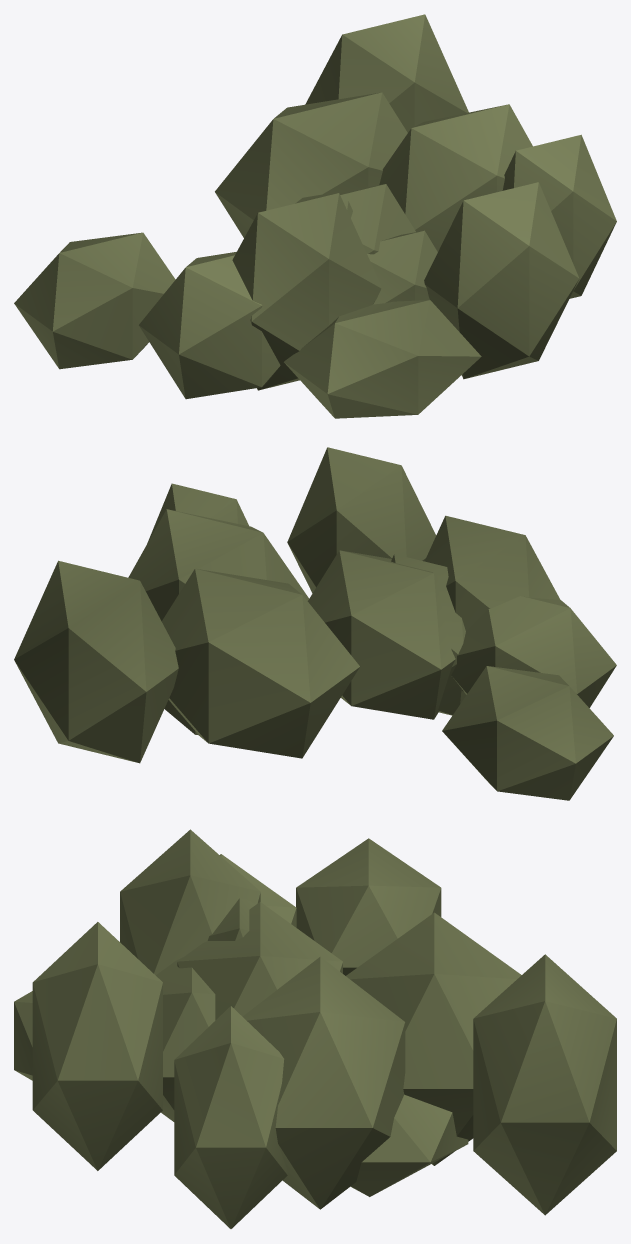
Rendered from iron-crowberry.glb.
3 renders of one model, top to bottom at view 1: azimuth 30°, elevation 25°; view 2: azimuth 150°, elevation 25°; view 3: azimuth 270°, elevation 25°, orthographic. The views are drawn at different scales.
Parts seen in each view (by area): view 1: Водяника; view 2: Водяника; view 3: Водяника.
Boxes of the visible parts, bbox=[...] form: Водяника: bbox=[14, 14, 616, 418]; Водяника: bbox=[14, 447, 616, 800]; Водяника: bbox=[14, 829, 616, 1228].
Size of the model in its own units: 1.31 by 0.4744 by 1.16.
